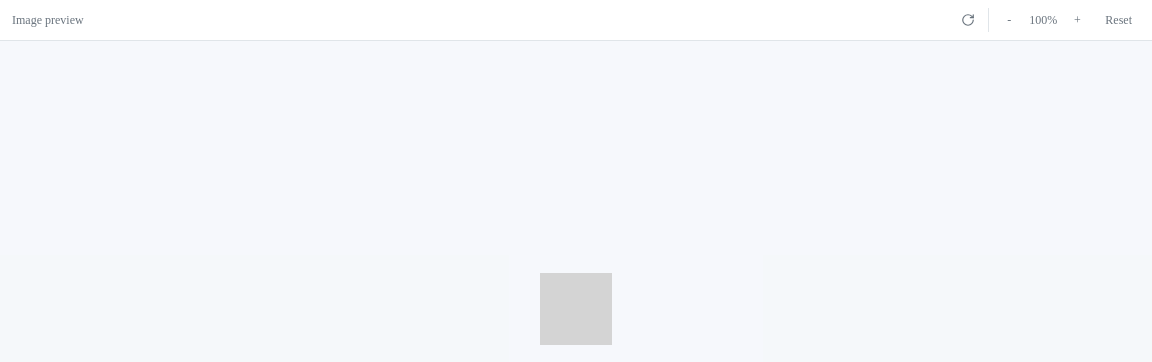
Test: DocumentViewer › zooms the image in/out in 5% steps and resets to fit
Expected: the text "100%" is shown, [1029,13,1057,27]
Click the button named "Zoom in" at (1077, 20), box [1065,8,1089,32]
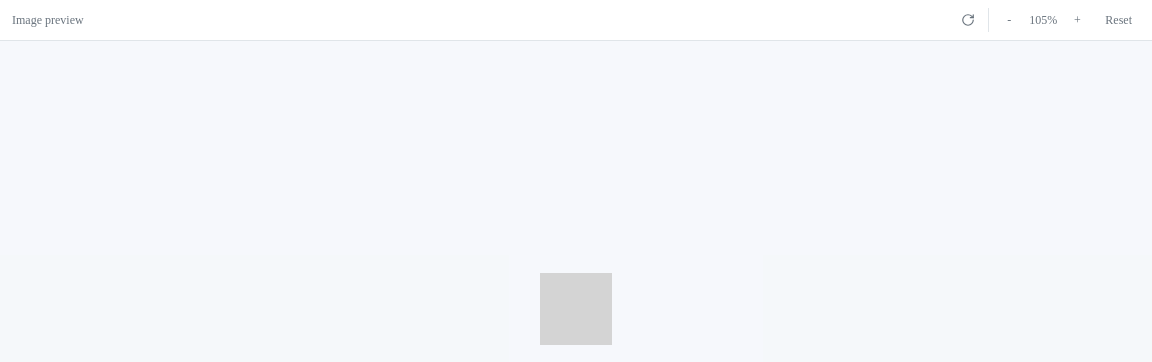
Now the text "105%" is shown, box [1029,13,1057,27]
Click the button named "Zoom in" at (1077, 20), box [1065,8,1089,32]
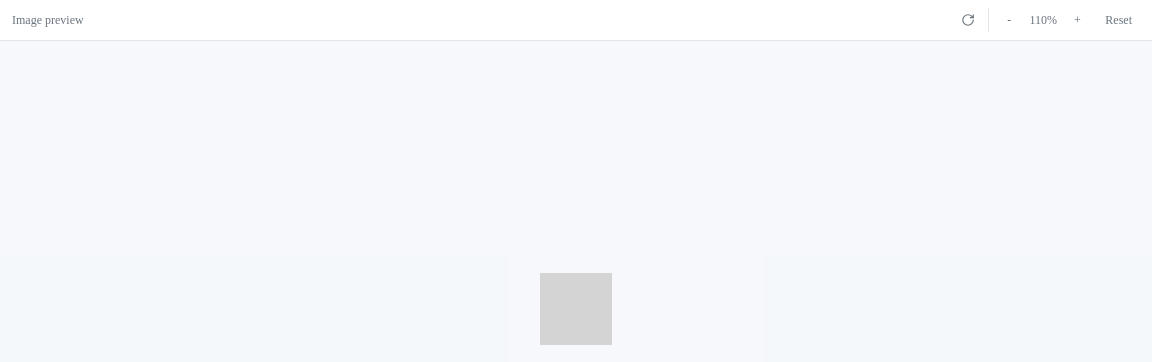
Now the text "110%" is shown, box [1030,13,1057,27]
Click the button named "Zoom out" at (1009, 20), box [997,8,1021,32]
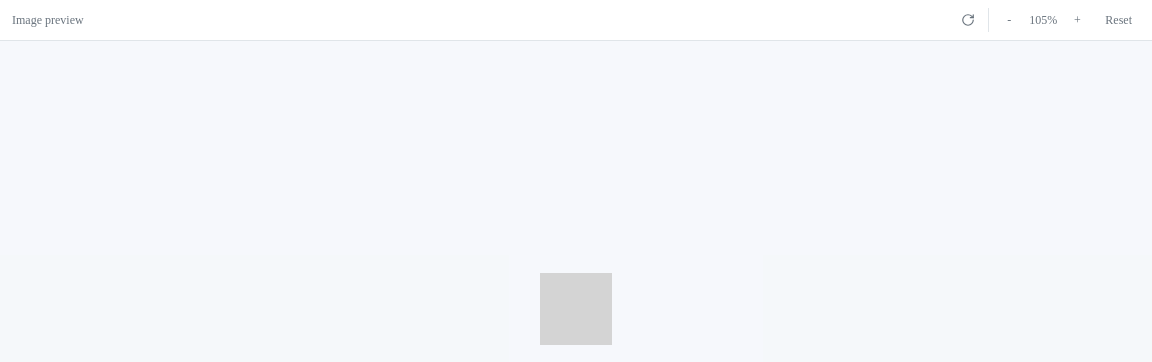
Now the text "105%" is shown, box [1029,13,1057,27]
Click the button "Reset" at (1119, 20), box [1097,8,1140,32]
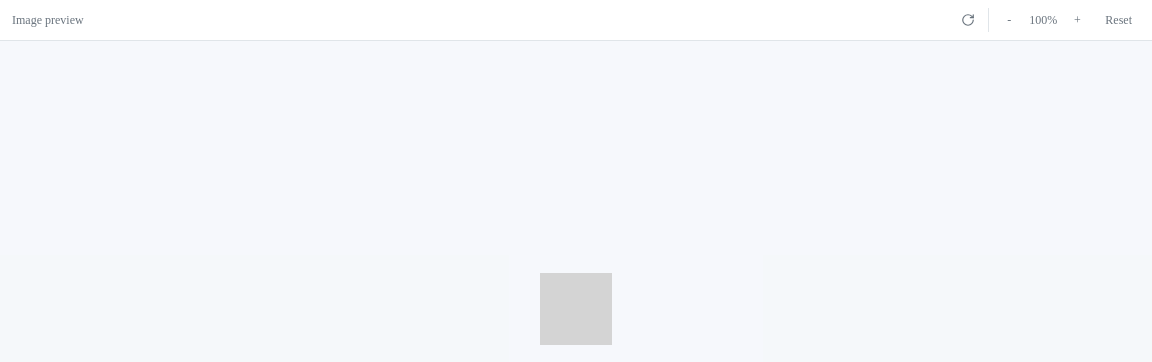
Now the text "100%" is shown, box [1029,13,1057,27]
